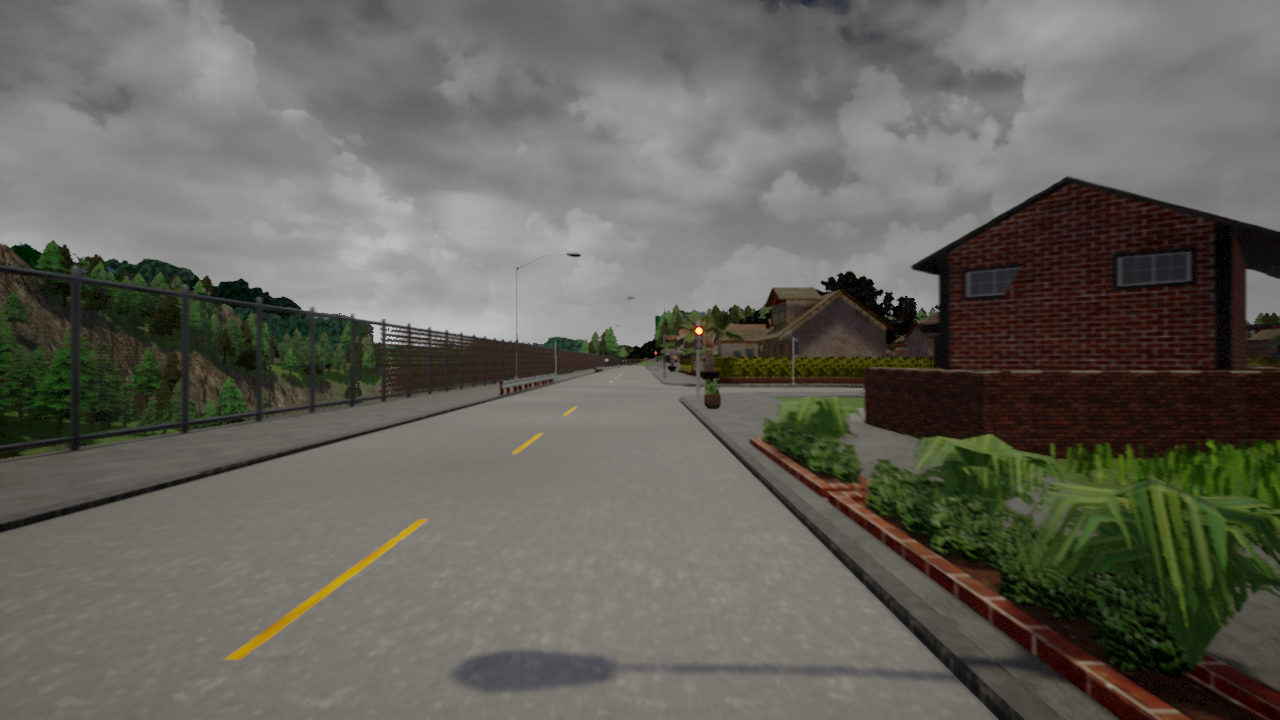red: (694, 326, 703, 350)
